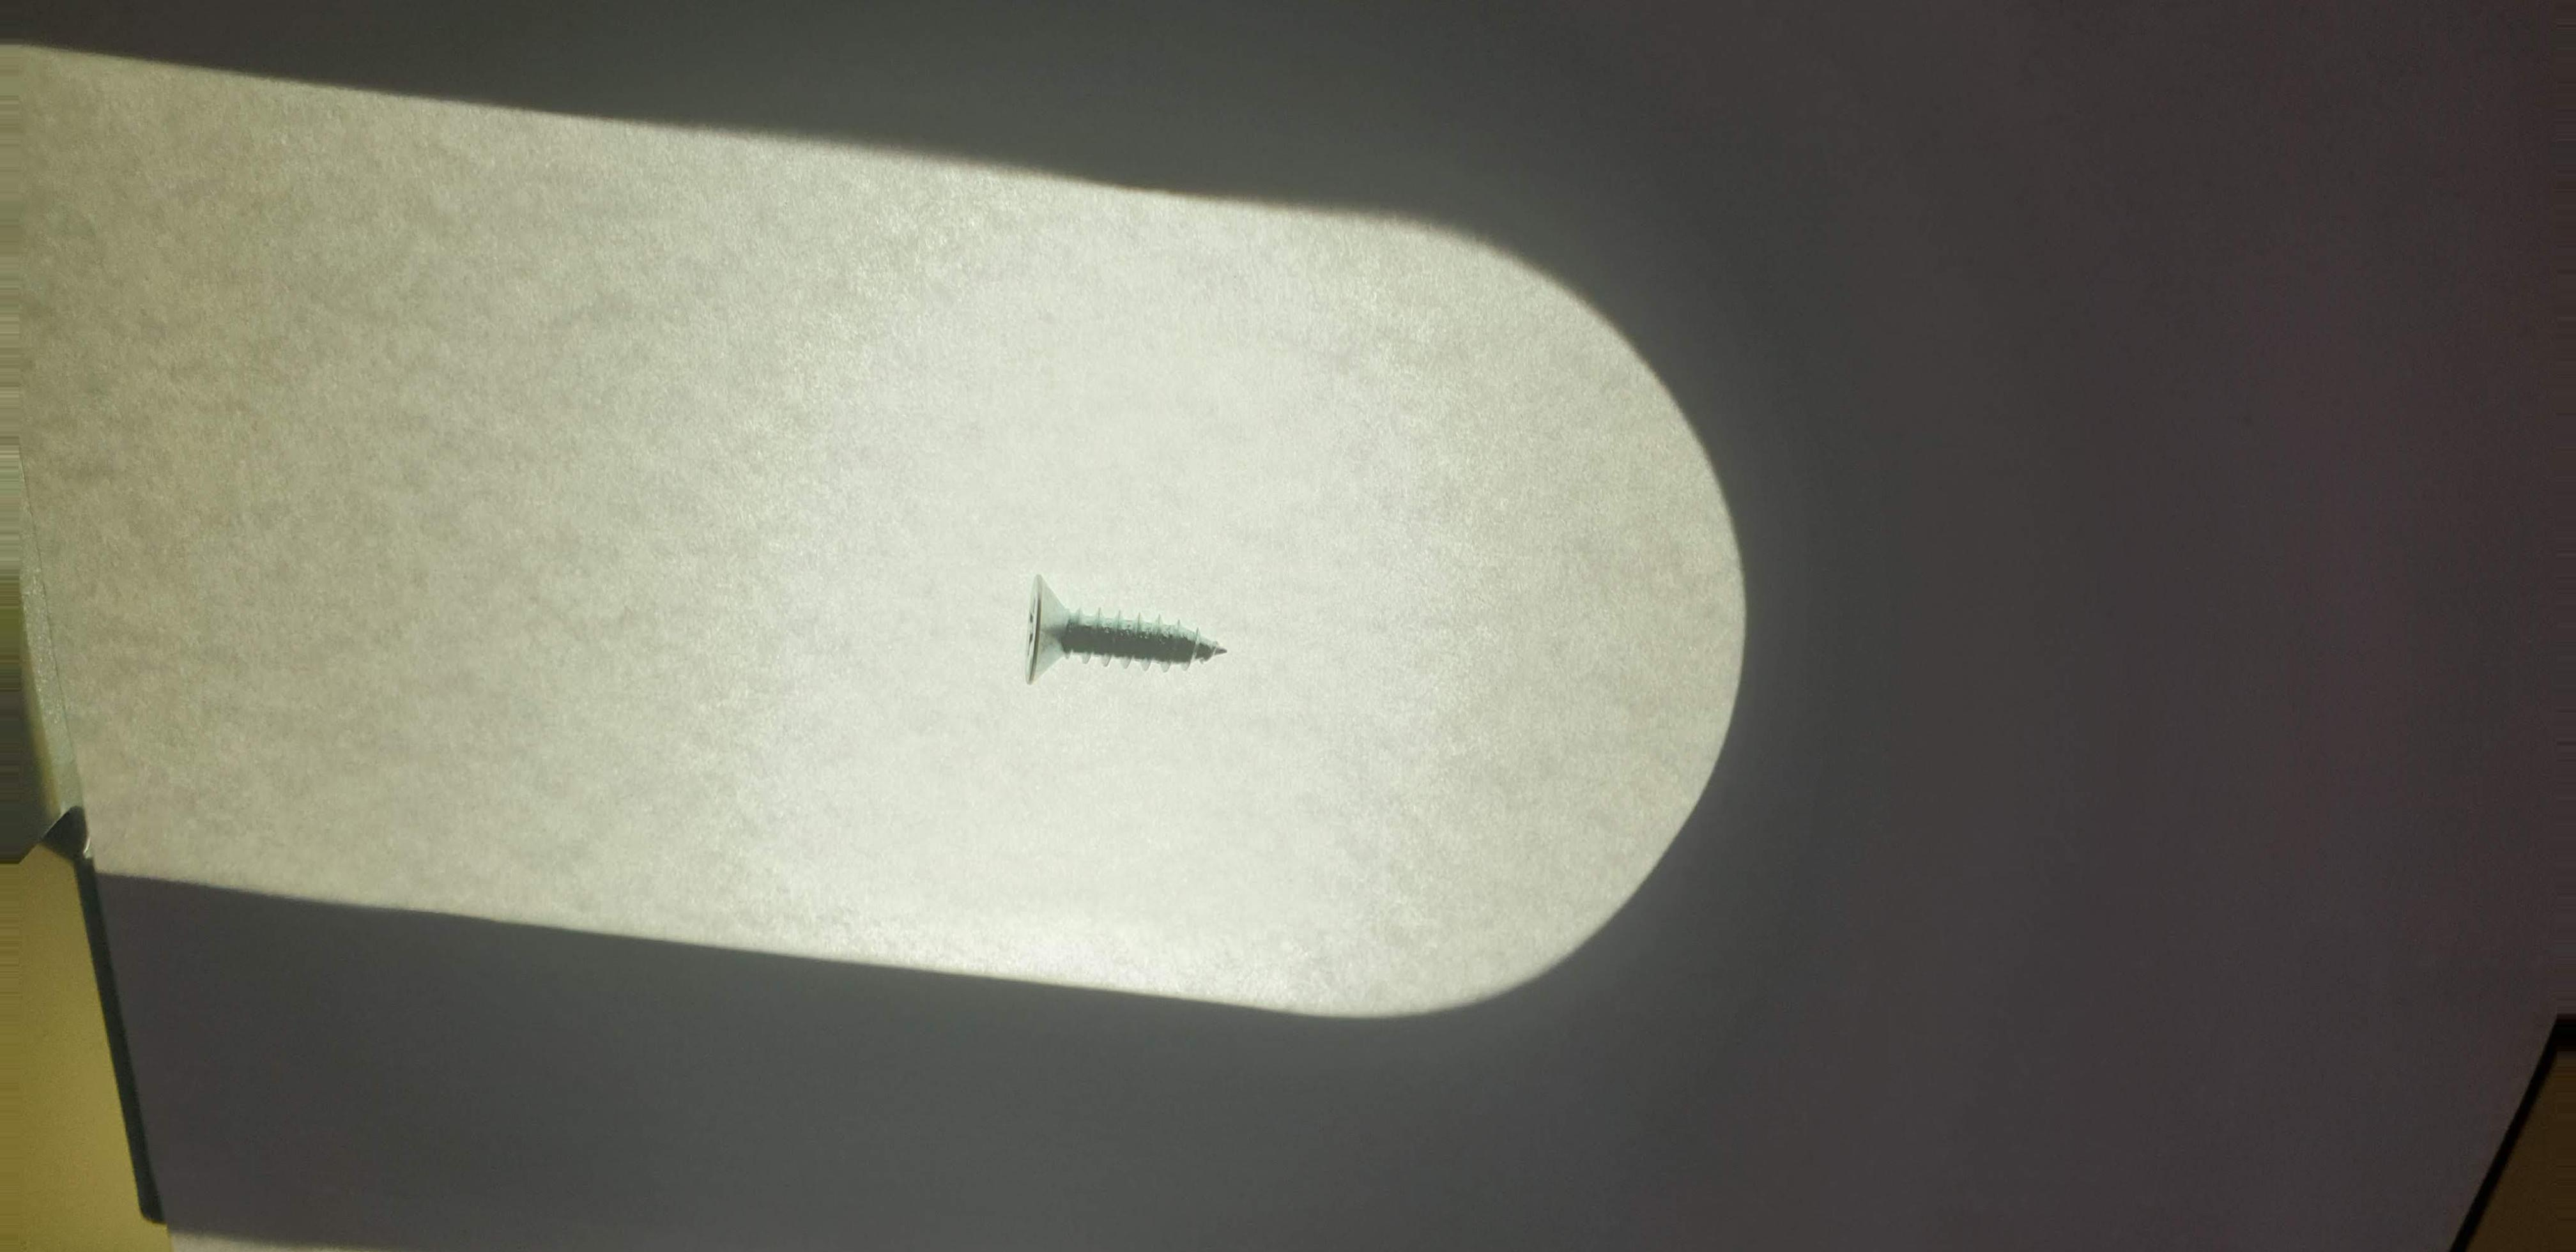S003: (997, 567, 1245, 700)
